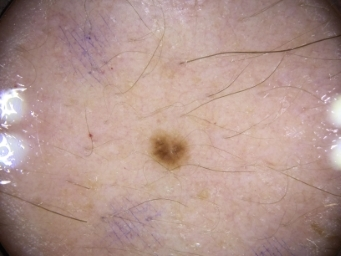nevus: (146, 130, 191, 169)
